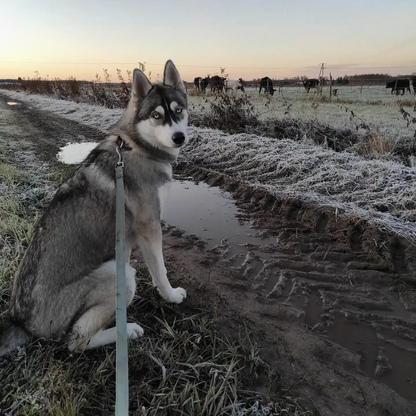husky: (8, 53, 193, 362)
